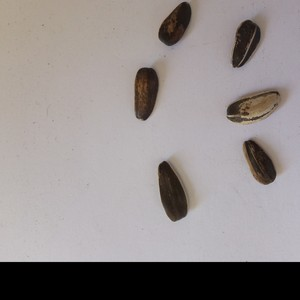girasol: (155, 158, 191, 226), (224, 87, 285, 126), (239, 137, 278, 188), (155, 1, 193, 48), (229, 18, 262, 71), (132, 66, 161, 124)
